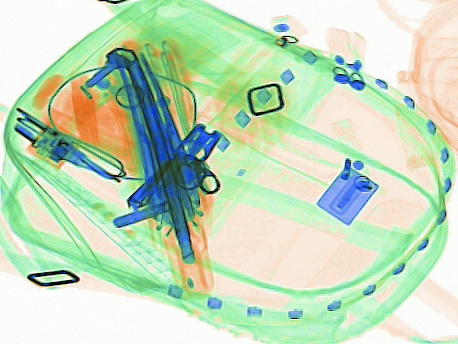scissors: (166, 118, 222, 178)
